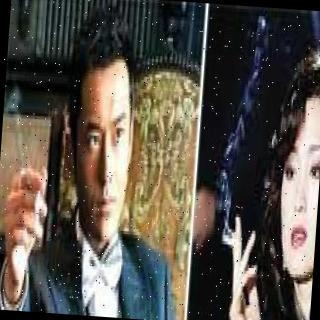smoke: (217, 12, 274, 231)
